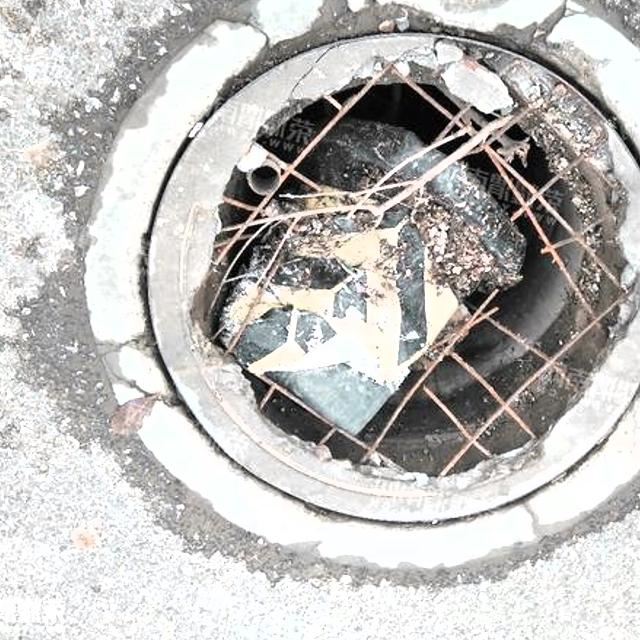broke: (39, 0, 640, 588)
